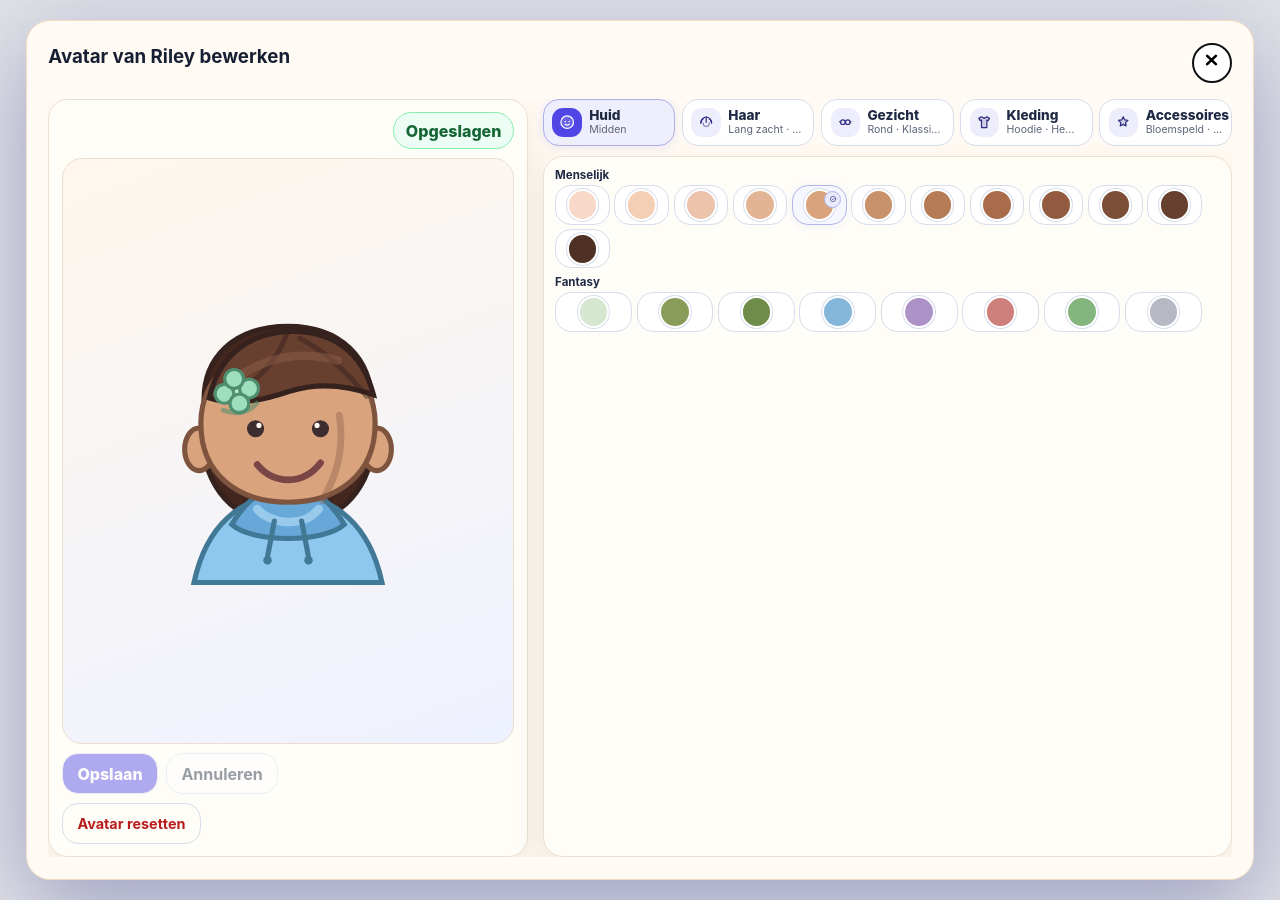
Test case: FamilyAvatarEditor › surfaces eyewear under the Face category
Click the button "Gezicht" at (887, 122), box [821,99,954,146]
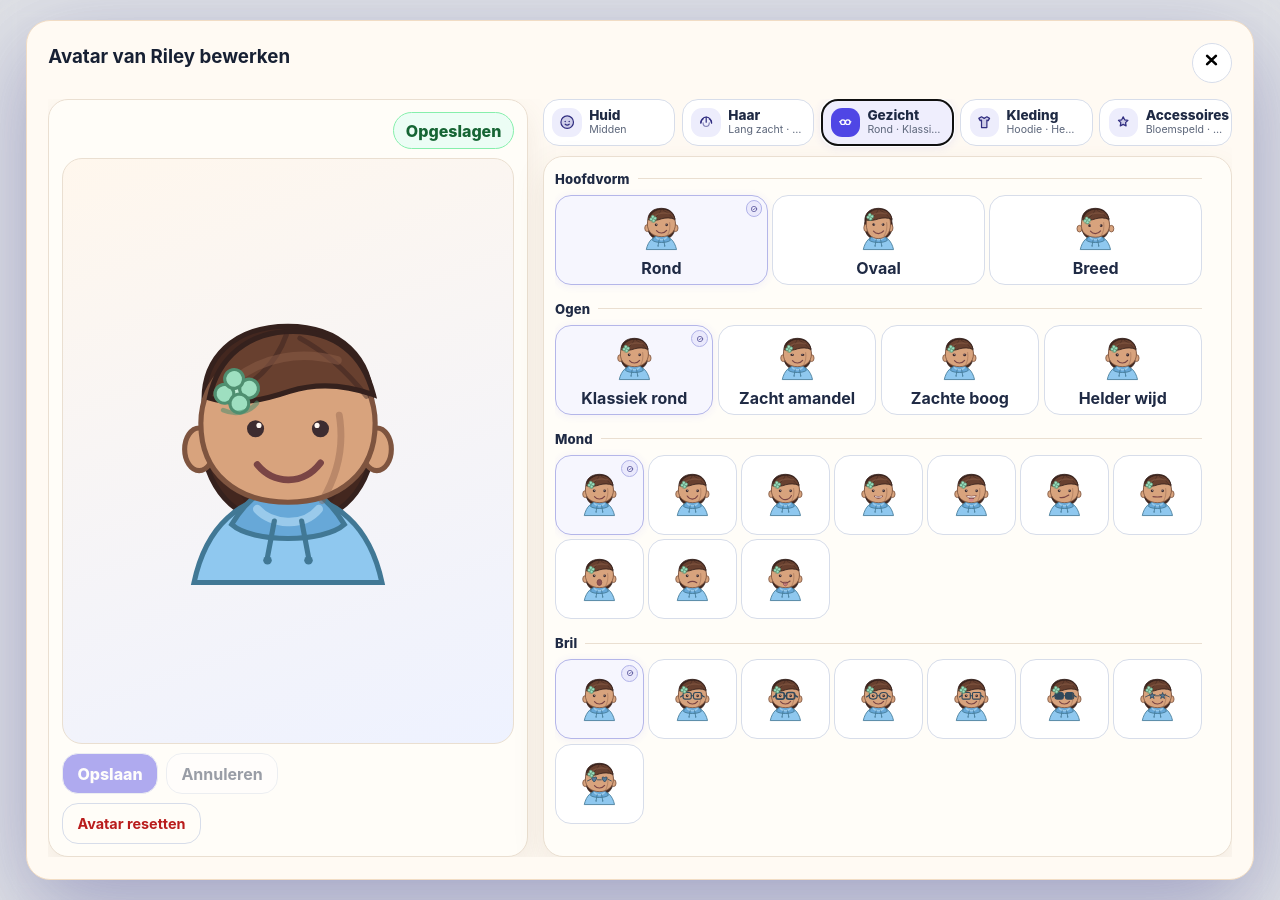
Check: the heading "Bril" is shown, box [555,633,1202,653]
